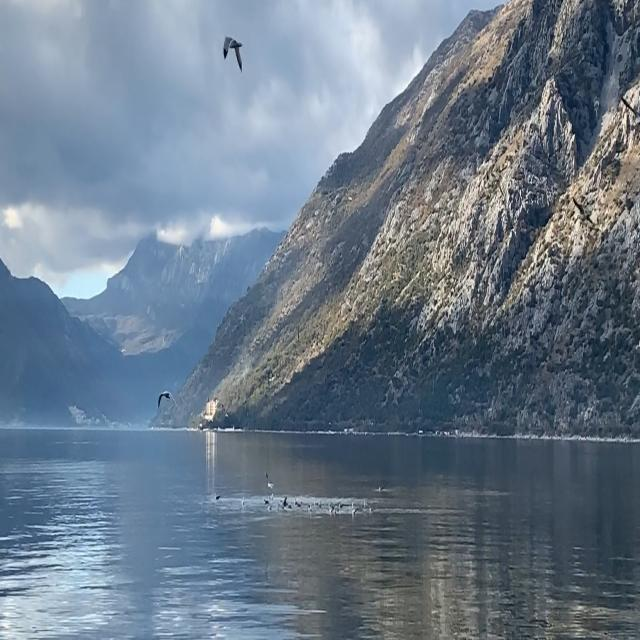bird: (219, 29, 248, 76), (149, 382, 181, 418)
